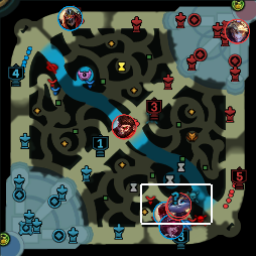ezreal: (225, 18, 249, 44)
leesin: (152, 200, 176, 224)
monkeyking: (111, 114, 137, 138)
xayah: (158, 213, 183, 237)
yuumi: (166, 193, 192, 218)
zed: (58, 5, 83, 30)
